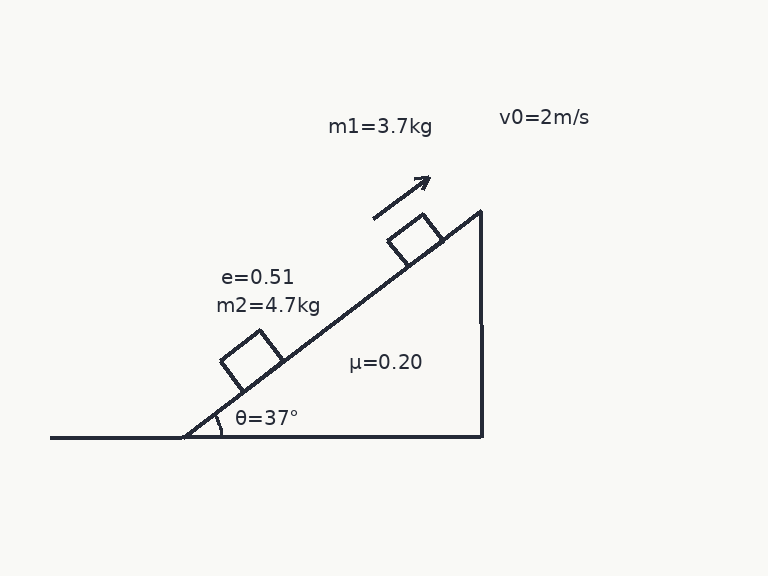block: (218, 328, 285, 393), (386, 212, 445, 268)
ramp: (179, 209, 482, 439)
